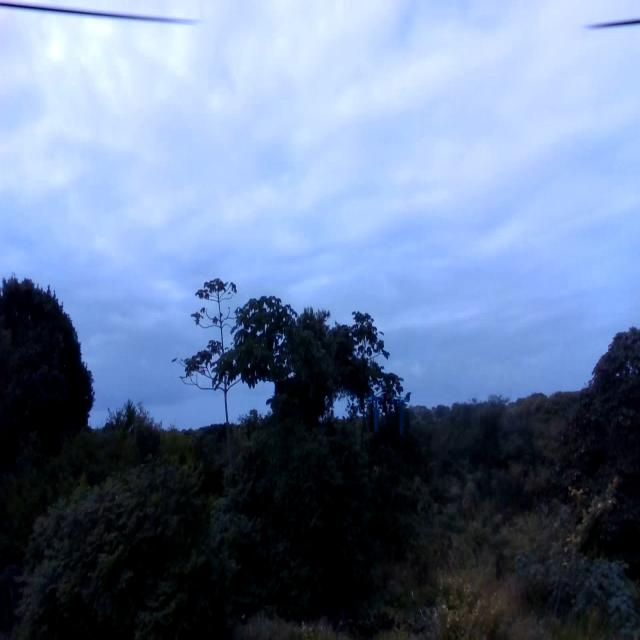-uav-: (360, 382, 420, 442)
